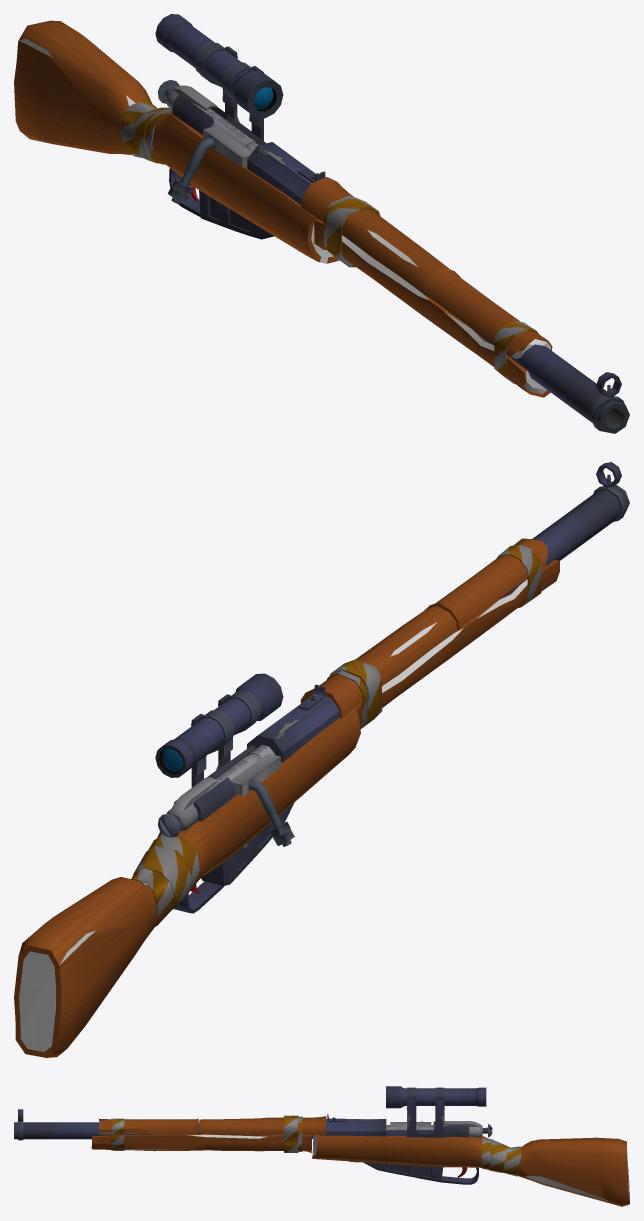
The model's file is Mosin_Preview.fbx.
The picture shows the model from 3 angles, top to bottom: view 1: azimuth 30°, elevation 25°; view 2: azimuth 150°, elevation 25°; view 3: azimuth 270°, elevation 25°; orthographic projection. The views are drawn at different scales.
Parts seen in each view (by area): view 1: Wood.001; view 2: Wood.001; view 3: Wood.001.
Part boxes in pixels (box(x1,y1,x2,y2)): Wood.001: box(14, 14, 629, 433); Wood.001: box(14, 462, 629, 1057); Wood.001: box(14, 1086, 629, 1206).
Bounding box in the file's own units: 0.5384 × 1.25 × 6.03.
